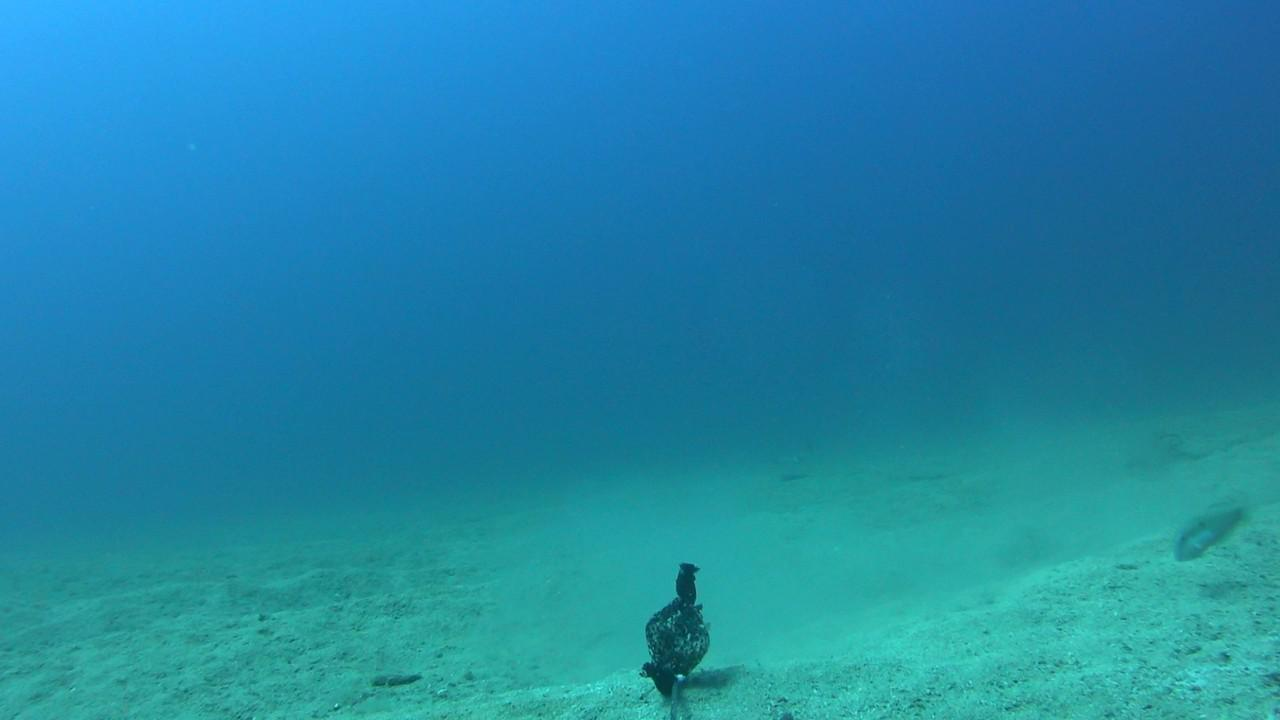myliobatis: (749, 439, 832, 470)
